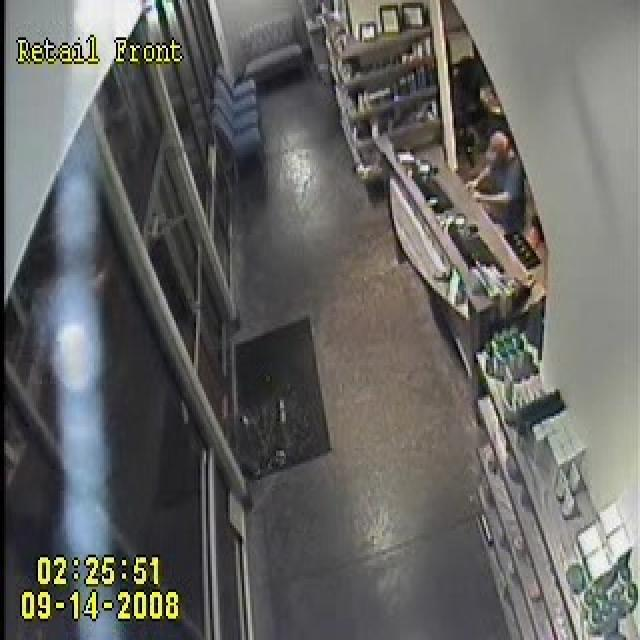thief: (465, 120, 512, 244)
